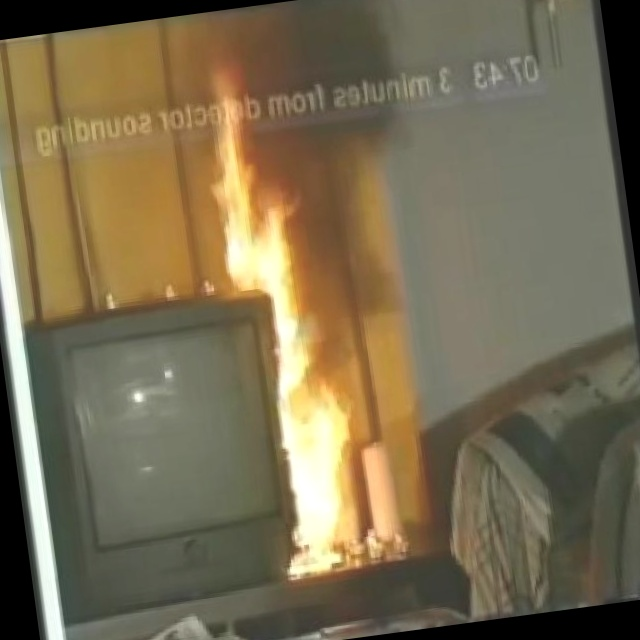fire: (225, 190, 399, 553)
